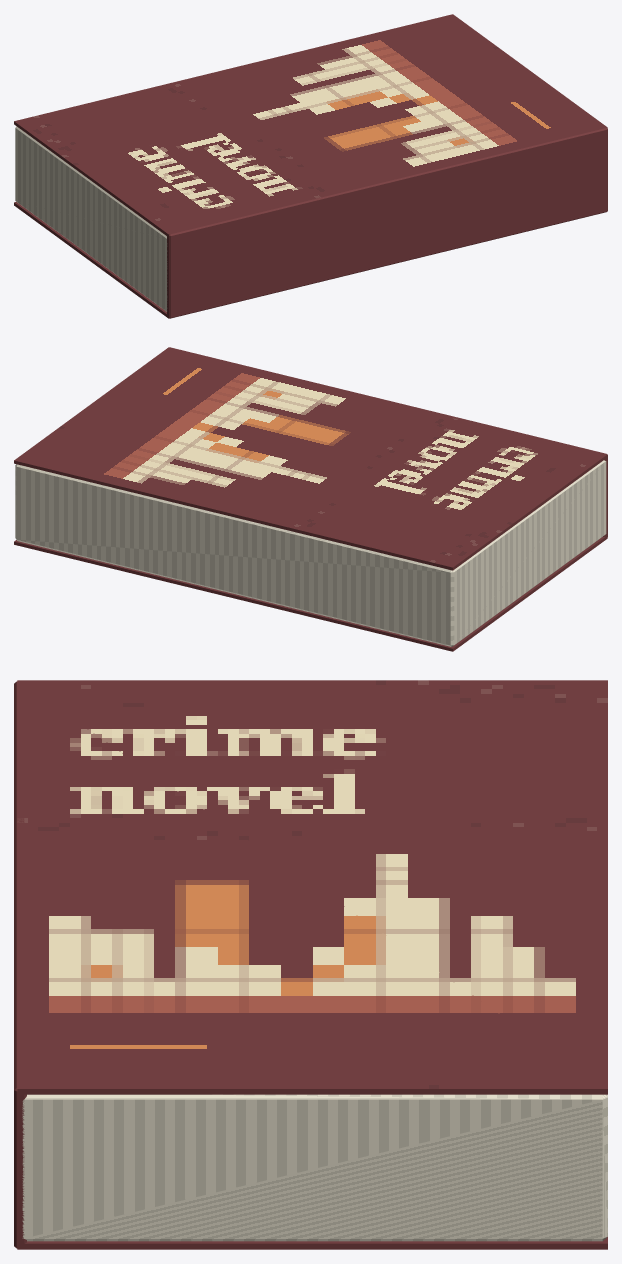
File: novel_crime2.glb
3 renders of one model, top to bottom at view 1: azimuth 30°, elevation 25°; view 2: azimuth 150°, elevation 25°; view 3: azimuth 270°, elevation 25°, orthographic. The views are drawn at different scales.
Parts seen in each view (by area): view 1: block_front, block_spine, block_pages, block_back; view 2: block_front, block_pages, block_back, block_spine; view 3: block_front, block_pages, block_spine, block_back.
Boxes of the visible parts, x1,y1,x2,y2 form: block_front: (14,14,607,237); block_spine: (167,128,607,318); block_pages: (15,126,167,311); block_back: (14,202,607,318); block_front: (14,347,607,570); block_pages: (15,460,606,646); block_back: (14,536,607,651); block_spine: (168,347,607,536); block_front: (17,680,607,1094); block_pages: (22,1094,607,1241); block_spine: (14,681,26,1248); block_back: (17,1237,607,1249).
Bounding box in the file's own units: 0.18 × 0.033 × 0.1106.
Materials: 1 (1 with a texture image).
